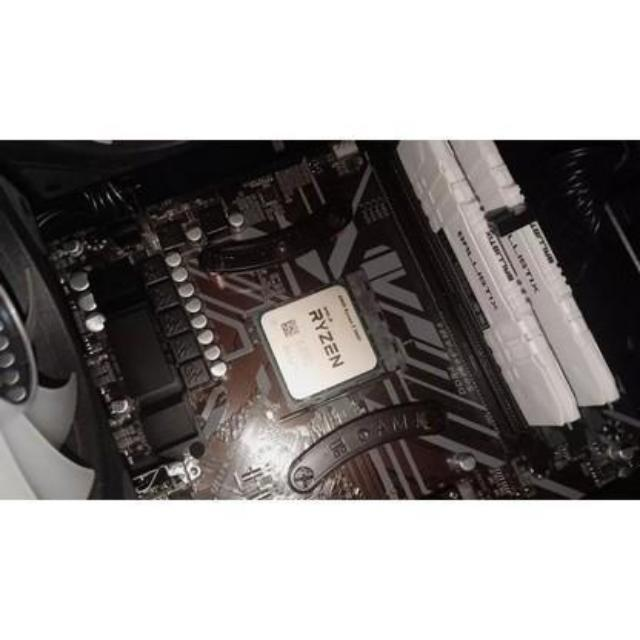CPU: (260, 287, 382, 396)
